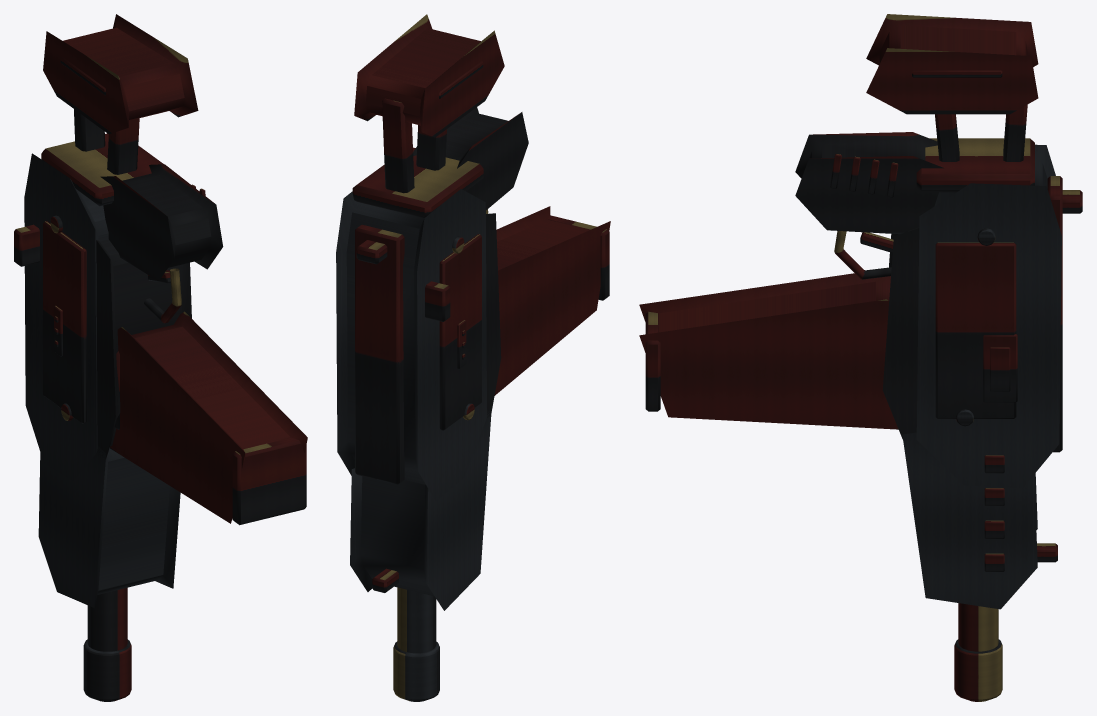
Rendered from BLIKK_V9_SMG_V3_1.glb.
3 views of the same model, side by side, from view 1: azimuth 30°, elevation 25°; view 2: azimuth 150°, elevation 25°; view 3: azimuth 270°, elevation 25° (orthographic). The views are drawn at different scales.
Parts seen in each view (by area): view 1: Magazine, ForwardShroud, ReceiverUpper, StockPad, PistolGrip, ReceiverLower, ReceiverSidePlate_-1, MagazineFloorplate, RearCap, MuzzleCollar, Barrel, StockLowerStrut (+3 smaller); view 2: ReceiverUpper, ForwardShroud, Magazine, TopRib, StockPad, ReceiverSidePlate_-1, PistolGrip, RearCap, StockUpperStrut, ReceiverLower, Barrel, MuzzleCollar (+5 smaller); view 3: Magazine, ReceiverUpper, StockPad, ForwardShroud, ReceiverSidePlate_1, PistolGrip, ReceiverLower, RearCap, MuzzleCollar, Barrel, EjectionPort, MagazineFloorplate (+6 smaller).
Part boxes in pixels (x1,y1,x2,y2): Magazine: (110,311,307,523); ForwardShroud: (38,446,180,607); ReceiverUpper: (24,153,108,480); StockPad: (43,14,198,134); PistolGrip: (100,164,223,281); ReceiverLower: (96,239,191,459); ReceiverSidePlate_-1: (43,221,86,423); MagazineFloorplate: (232,437,306,525); RearCap: (41,133,163,206); MuzzleCollar: (83,639,131,700); Barrel: (87,587,127,651); StockLowerStrut: (107,118,139,174); ReceiverUpper: (336,189,486,500); ForwardShroud: (350,409,491,610); Magazine: (494,206,610,395); TopRib: (355,224,404,484); StockPad: (354,14,504,137); ReceiverSidePlate_-1: (439,234,481,430); PistolGrip: (413,107,528,210); RearCap: (352,147,483,217); StockUpperStrut: (382,98,414,193); ReceiverLower: (486,213,501,417); Barrel: (397,587,436,653); MuzzleCollar: (393,641,439,700); Magazine: (639,273,898,429); ReceiverUpper: (916,144,1061,488); StockPad: (866,14,1038,114); ForwardShroud: (902,432,1037,609); ReceiverSidePlate_1: (935,242,1016,418); PistolGrip: (795,132,943,234); ReceiverLower: (882,227,919,439); RearCap: (916,138,1034,192); MuzzleCollar: (954,639,1002,700); Barrel: (958,603,998,651); EjectionPort: (983,334,1017,402); MagazineFloorplate: (645,311,660,411).
Bounding box in the file's own units: 0.479 × 2.73 × 1.65.
Materials: 4 (4 with a texture image).
